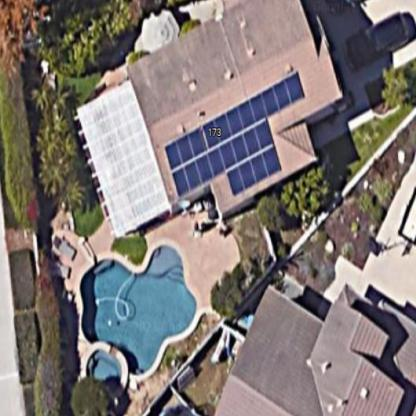pool: (70, 236, 202, 398)
